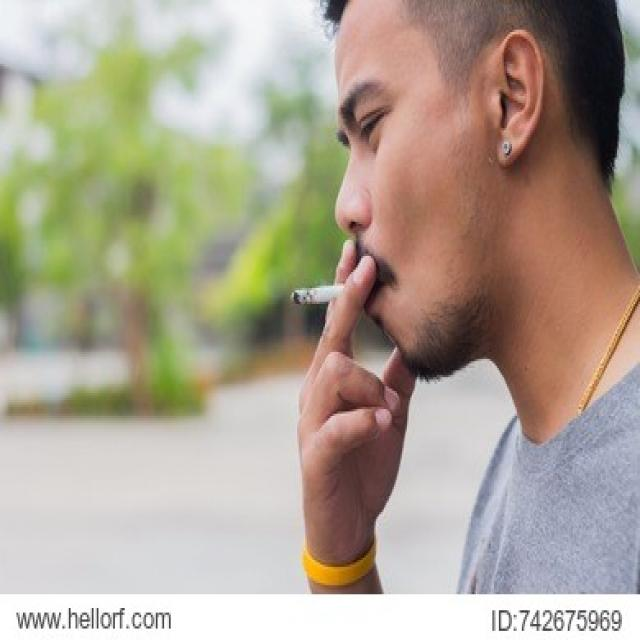cigarette: (289, 284, 359, 309)
